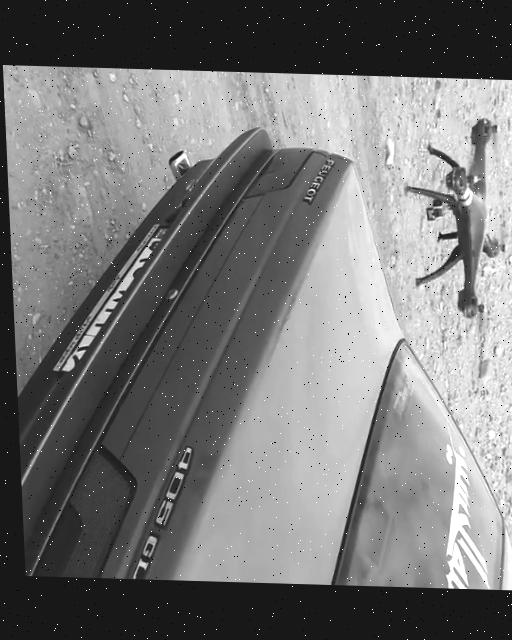drone: (401, 99, 512, 340)
